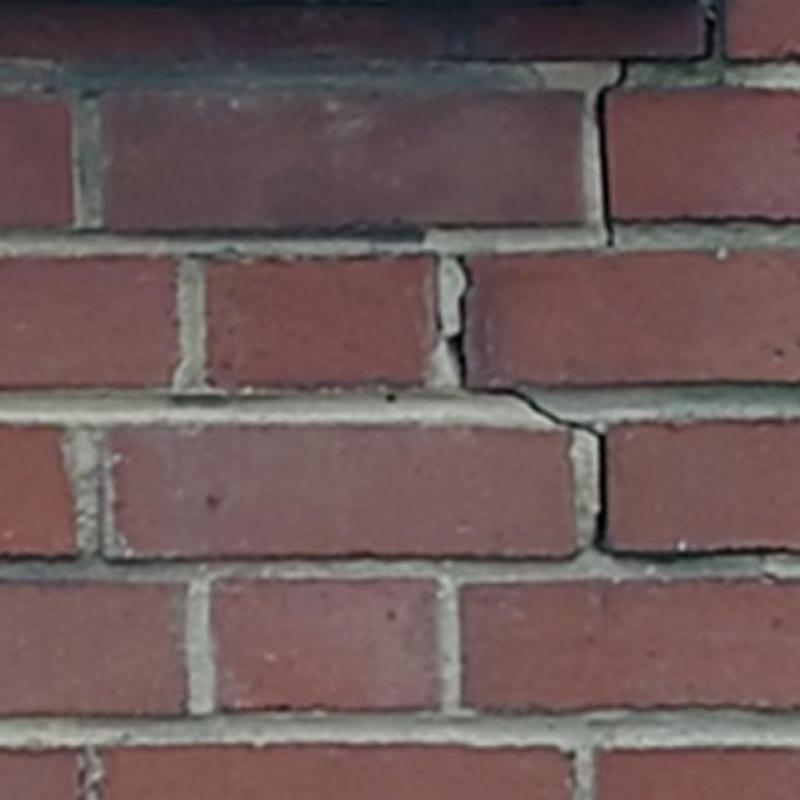crack: (446, 256, 799, 563), (594, 59, 631, 247)
